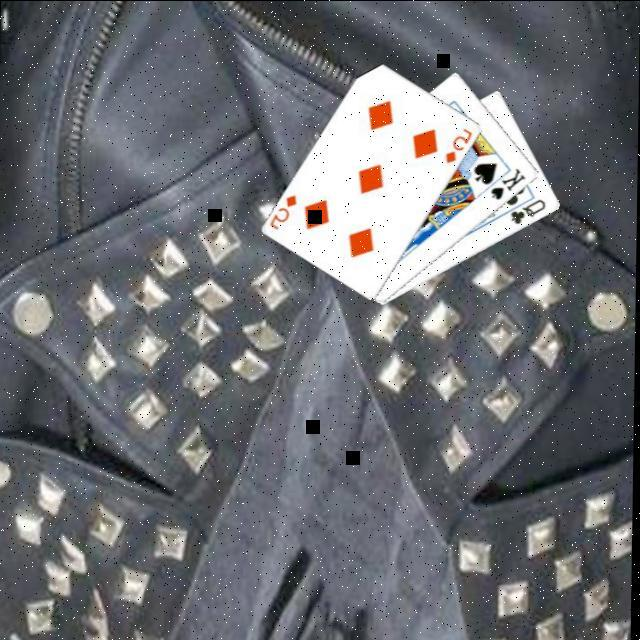5D: (441, 126, 473, 168), (266, 192, 298, 234)
KS: (487, 166, 527, 204)
QC: (506, 197, 547, 229)
